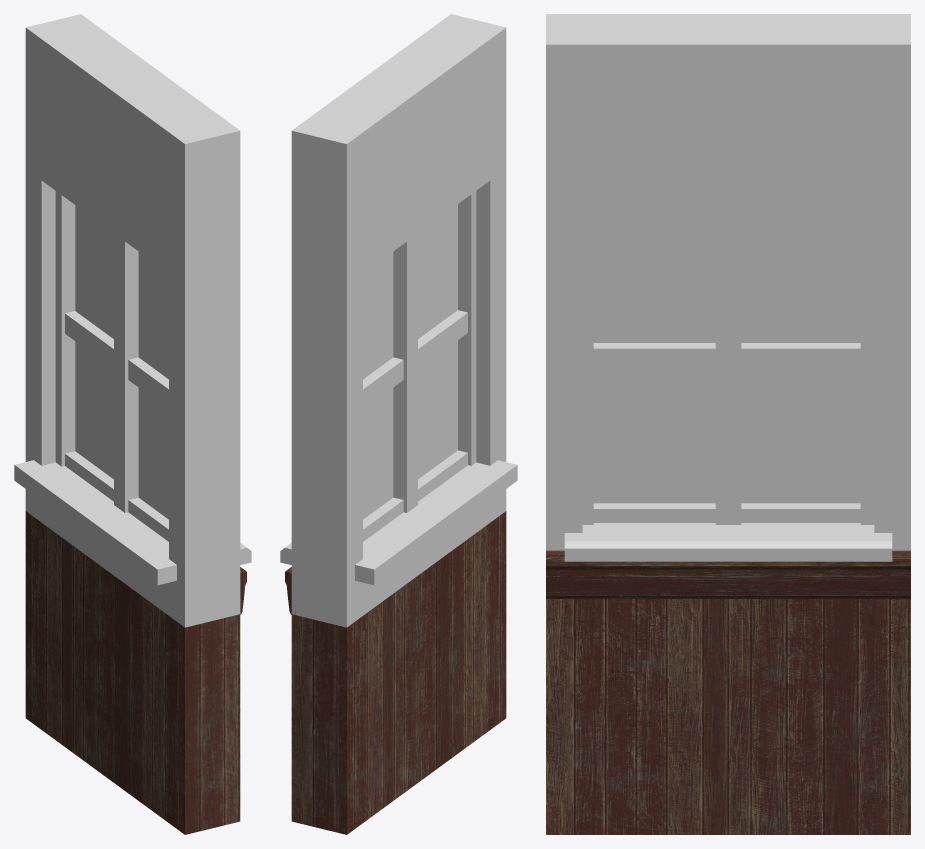
Rendered from pencere.fbx.
3 views of the same model, side by side, from view 1: azimuth 30°, elevation 25°; view 2: azimuth 150°, elevation 25°; view 3: azimuth 270°, elevation 25° (orthographic). The views are drawn at different scales.
Parts seen in each view (by area): view 1: Cube, Cube.003, Plane, Cube.002; view 2: Cube, Cube.003, Plane, Cube.002; view 3: Cube, Plane, Cube.003, Cube.006, Cube.002.
Part boxes in pixels (x1,y1,x2,y2): Cube: (25,14,240,834); Cube.003: (55,191,168,541); Plane: (75,205,168,519); Cube.002: (14,460,251,585); Cube: (291,14,506,834); Cube.003: (363,191,476,541); Plane: (363,204,457,519); Cube.002: (280,460,517,585); Cube: (546,14,910,834); Plane: (593,209,860,503); Cube.003: (582,206,874,524); Cube.006: (546,550,910,598); Cube.002: (564,523,892,561).
Bounding box in the file's own units: 68.07 × 478 × 200.
